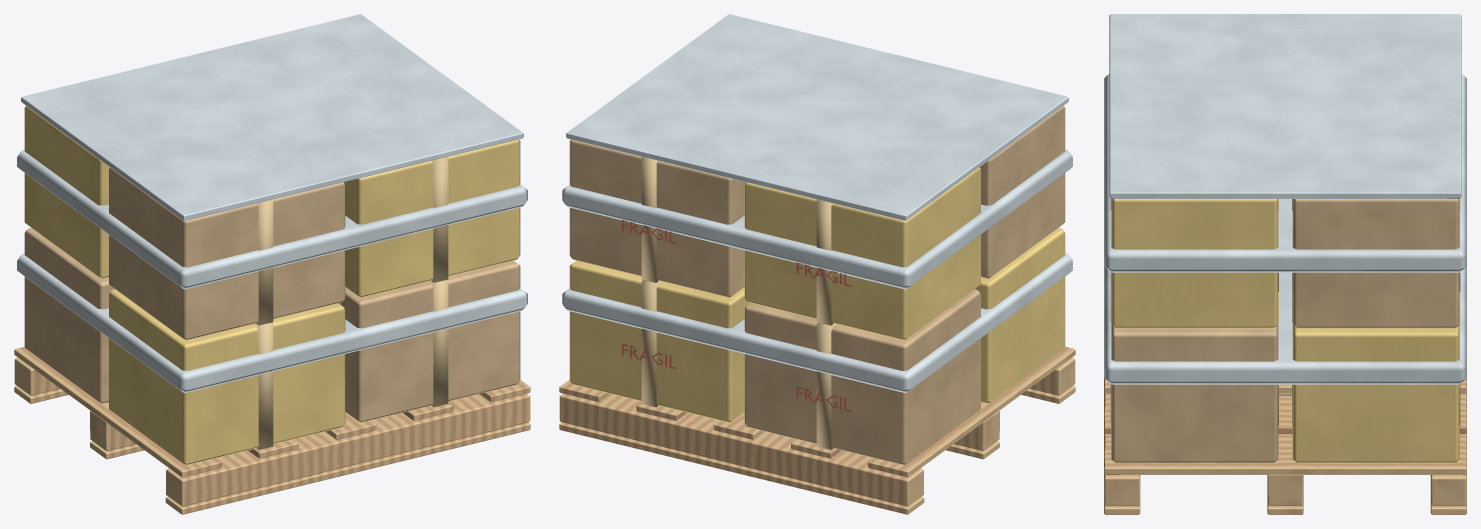
Rendered from Ofertas_PalletStack.fbx.
3 renders of one model, left to right at view 1: azimuth 30°, elevation 25°; view 2: azimuth 150°, elevation 25°; view 3: azimuth 270°, elevation 25°, orthographic. The views are drawn at different scales.
Parts seen in each view (by area): view 1: Ofertas_PalletStack; view 2: Ofertas_PalletStack; view 3: Ofertas_PalletStack.
Part boxes in pixels (<box>): Ofertas_PalletStack: <box>14,14,530,514</box>; Ofertas_PalletStack: <box>559,14,1075,514</box>; Ofertas_PalletStack: <box>1104,14,1466,514</box>.
Bounding box in the file's own units: 1.2 × 0.974 × 1.
Materials: 1 (1 with a texture image).
